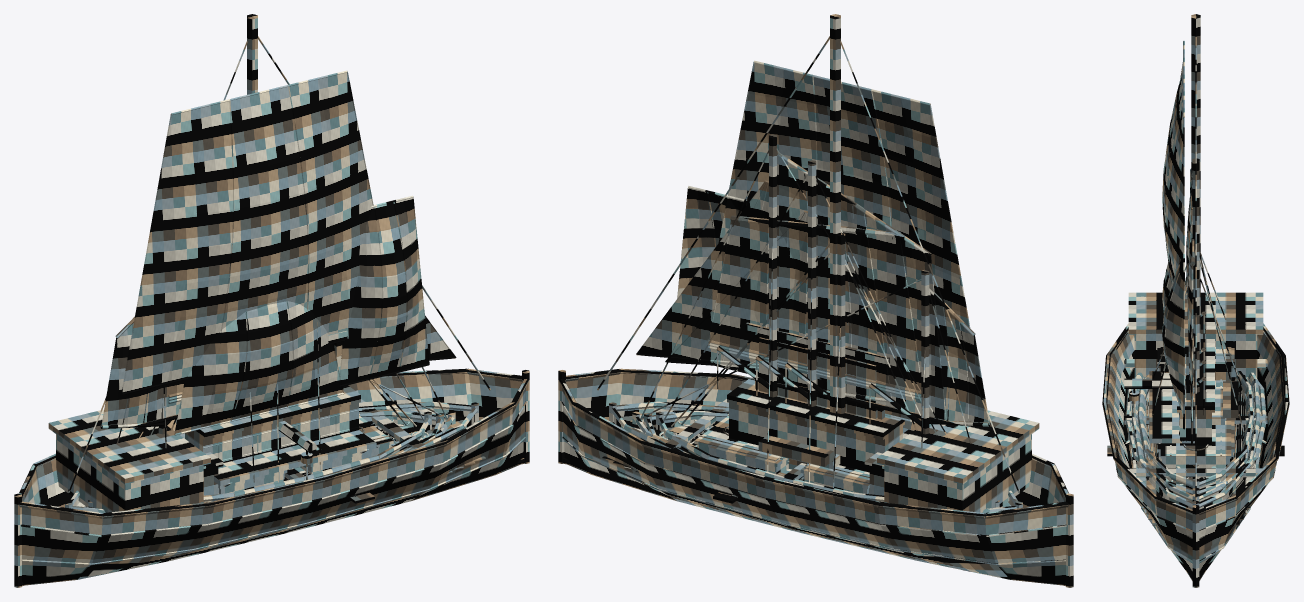
The model's file is harbor.glb.
3 renders of one model, left to right at view 1: azimuth 30°, elevation 25°; view 2: azimuth 150°, elevation 25°; view 3: azimuth 270°, elevation 25°, orthographic. The views are drawn at different scales.
Visible parts, largest first — view 1: harbor_merchant_ship_01, harbor_fishing_boat_01, harbor_cargo_ketch_01, harbor_quay_01, harbor_warehouse_hoist_01, harbor_cargo_lugger_01, harbor_cargo_sloop_01; view 2: harbor_merchant_ship_01, harbor_cargo_ketch_01, harbor_cargo_lugger_01, harbor_cargo_sloop_01, harbor_quay_01, harbor_warehouse_door_01, harbor_fishing_boat_01, harbor_quay_steps_01; view 3: harbor_merchant_ship_01, harbor_cargo_ketch_01, harbor_cargo_lugger_01, harbor_fishing_boat_01, harbor_warehouse_hoist_01, harbor_quay_01, harbor_cargo_sloop_01, harbor_quay_steps_01, harbor_warehouse_door_01.
Boxes of the visible parts, left/top/right/bottom form: harbor_merchant_ship_01: left=14, top=14, right=529, bottom=587; harbor_fishing_boat_01: left=170, top=300, right=431, bottom=501; harbor_cargo_ketch_01: left=65, top=315, right=478, bottom=512; harbor_quay_01: left=185, top=385, right=360, bottom=468; harbor_warehouse_hoist_01: left=214, top=421, right=376, bottom=486; harbor_cargo_lugger_01: left=168, top=354, right=443, bottom=495; harbor_cargo_sloop_01: left=88, top=341, right=455, bottom=507; harbor_merchant_ship_01: left=558, top=14, right=1073, bottom=587; harbor_cargo_ketch_01: left=609, top=134, right=1022, bottom=512; harbor_cargo_lugger_01: left=644, top=215, right=921, bottom=495; harbor_cargo_sloop_01: left=632, top=160, right=999, bottom=507; harbor_quay_01: left=727, top=379, right=904, bottom=472; harbor_warehouse_door_01: left=744, top=322, right=889, bottom=419; harbor_fishing_boat_01: left=656, top=243, right=921, bottom=501; harbor_quay_steps_01: left=758, top=435, right=840, bottom=469; harbor_merchant_ship_01: left=1102, top=14, right=1289, bottom=587; harbor_cargo_ketch_01: left=1131, top=161, right=1260, bottom=509; harbor_cargo_lugger_01: left=1125, top=168, right=1266, bottom=494; harbor_fishing_boat_01: left=1137, top=208, right=1254, bottom=489; harbor_warehouse_hoist_01: left=1124, top=371, right=1194, bottom=444; harbor_quay_01: left=1177, top=339, right=1214, bottom=445; harbor_cargo_sloop_01: left=1138, top=158, right=1253, bottom=501; harbor_quay_steps_01: left=1212, top=381, right=1238, bottom=424; harbor_warehouse_door_01: left=1184, top=285, right=1195, bottom=399.
Size of the model in its own units: 13.2 by 12.55 by 4.71.
1 material, 1 textured.
